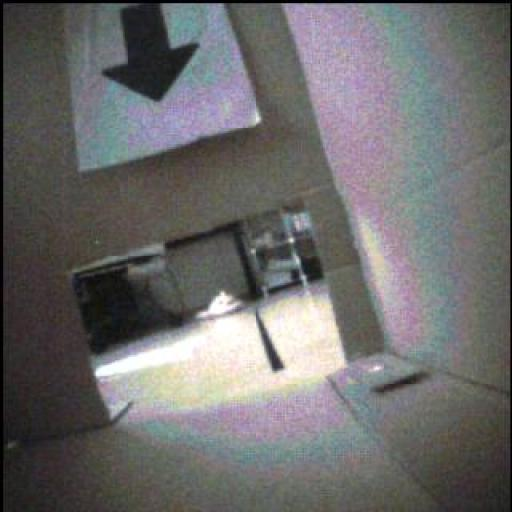arrow: (104, 4, 200, 102)
